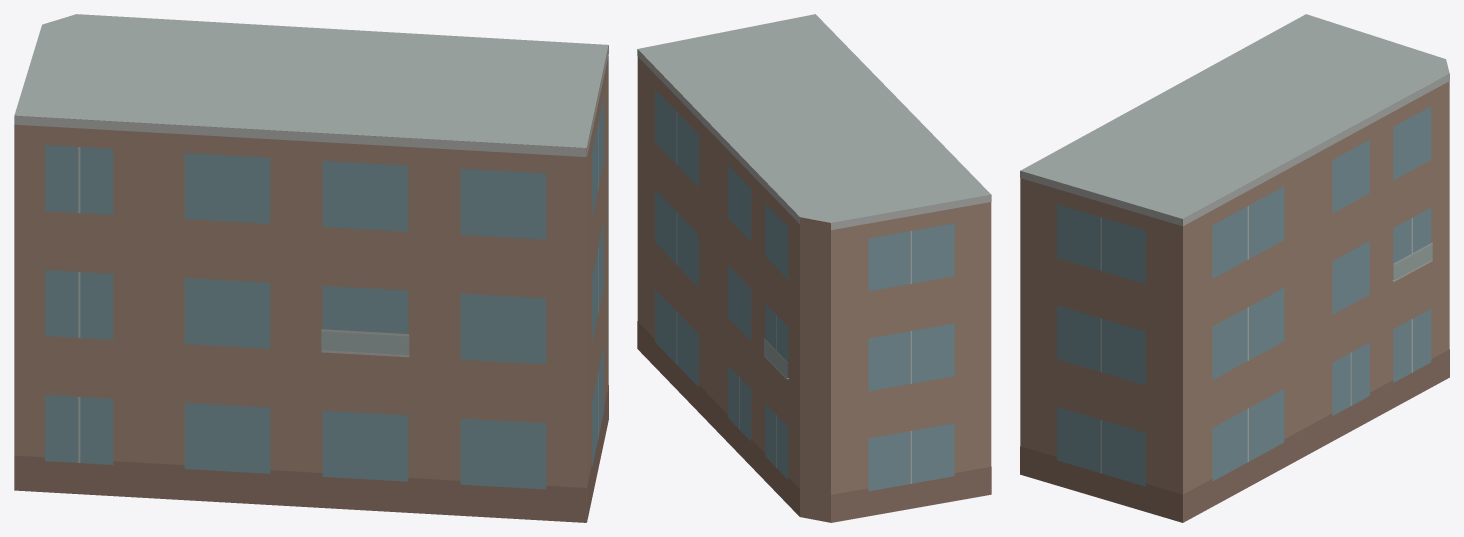
The model's file is survey-upis-32799628.glb.
3 renders of one model, left to right at view 1: azimuth 30°, elevation 25°; view 2: azimuth 150°, elevation 25°; view 3: azimuth 270°, elevation 25°, orthographic. The views are drawn at different scales.
Parts seen in each view (by area): view 1: survey-upis-32799628.tmp; view 2: survey-upis-32799628.tmp; view 3: survey-upis-32799628.tmp.
Part boxes in pixels (x1,y1,x2,y2): survey-upis-32799628.tmp: [14, 14, 608, 522]; survey-upis-32799628.tmp: [637, 14, 991, 522]; survey-upis-32799628.tmp: [1020, 14, 1449, 522].
Bounding box in the file's own units: 14.63 × 10.1 × 12.95.
